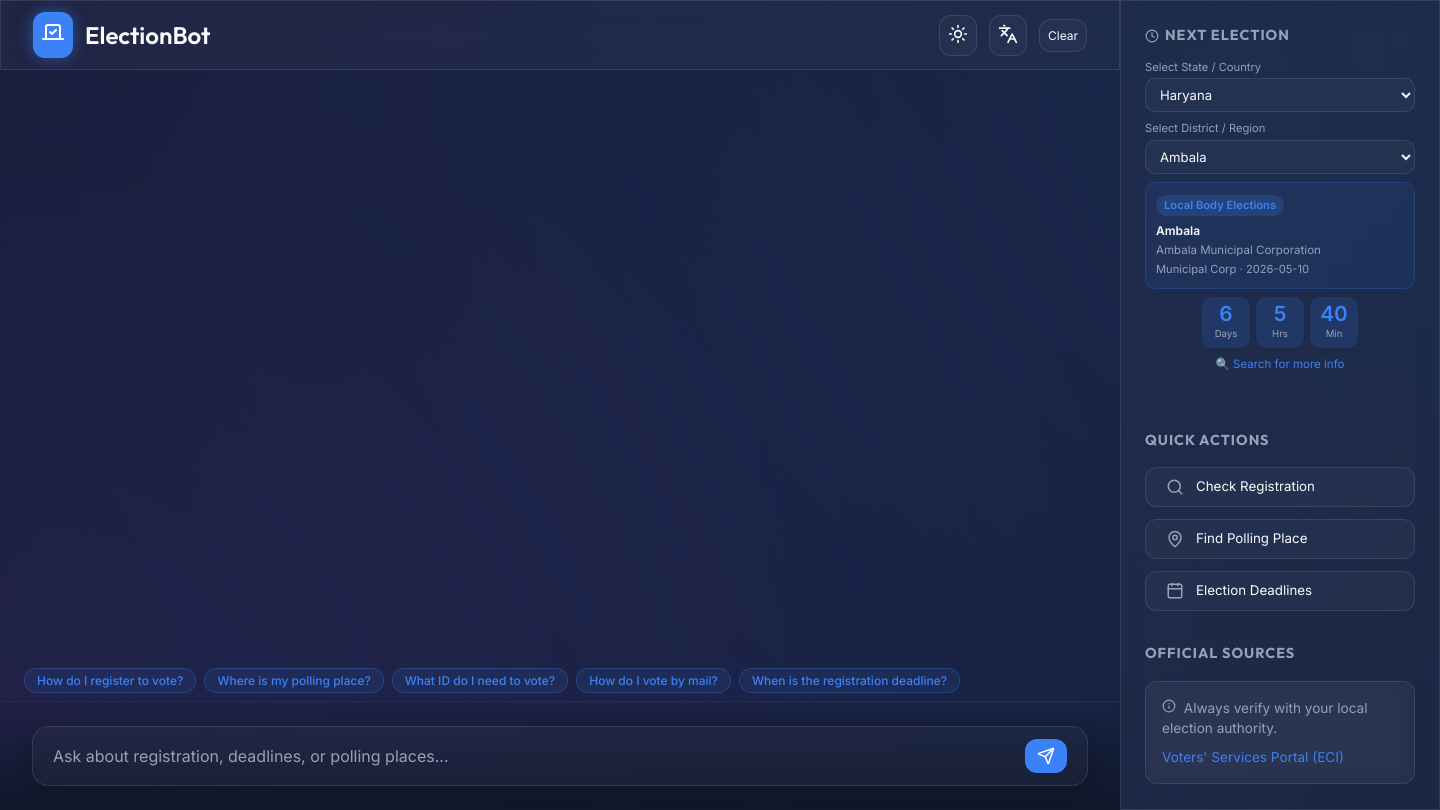
ElectionBot App Component › allows user to type and send a message
The image size is (1440, 810).
// Type a message
Type "Testing voting by mail" into the field with placeholder "Ask about registration, deadlines, or polling places..." at (531, 756), box [53,746,1009,766]
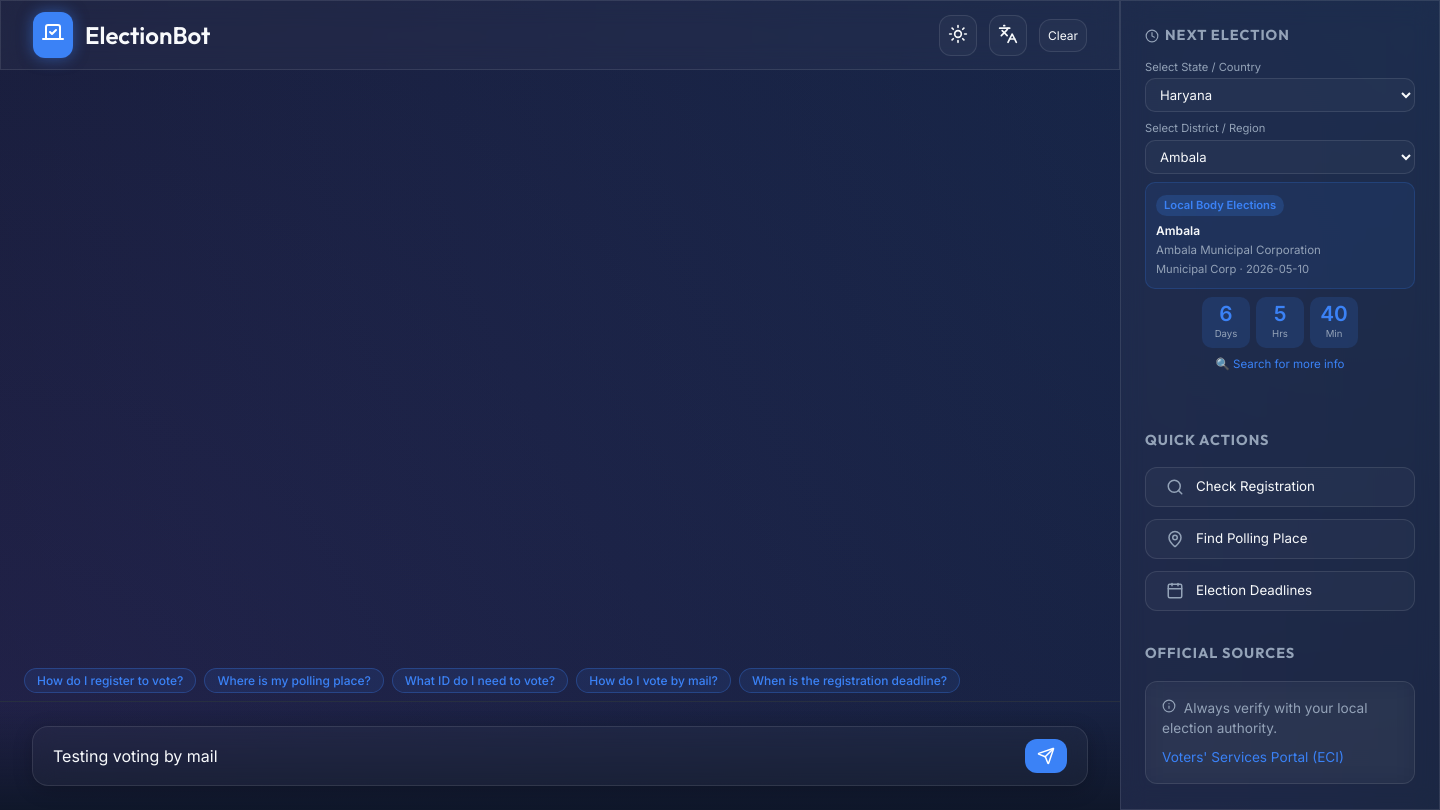
// Send the message
Click the button named "Send message" at (1046, 756), box [1025,739,1067,773]
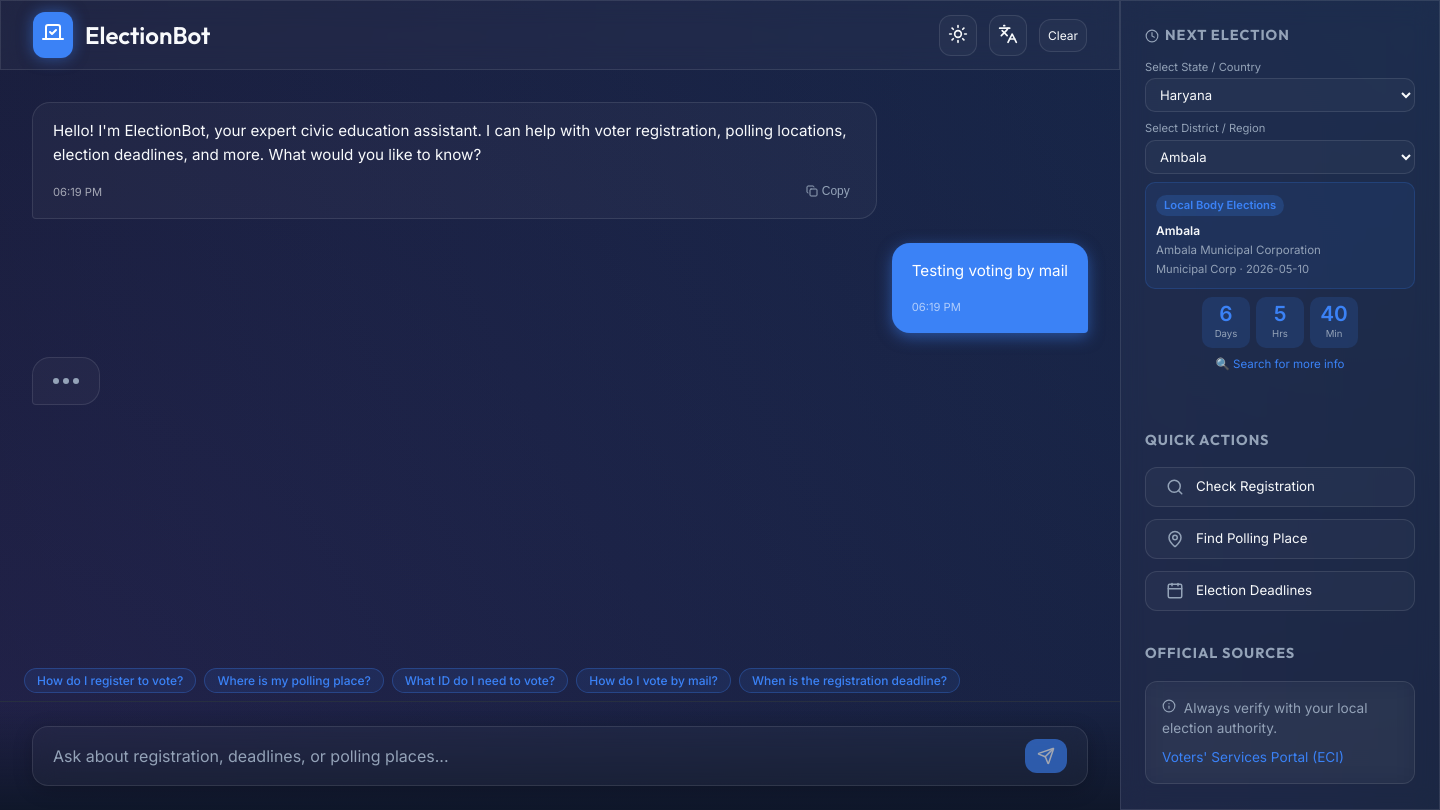
Check: the text "Testing voting by mail" is shown, box [912,258,1068,283]
Check: the field with placeholder "Ask about registration, deadlines, or polling places..." is empty, box [53,746,1009,766]
